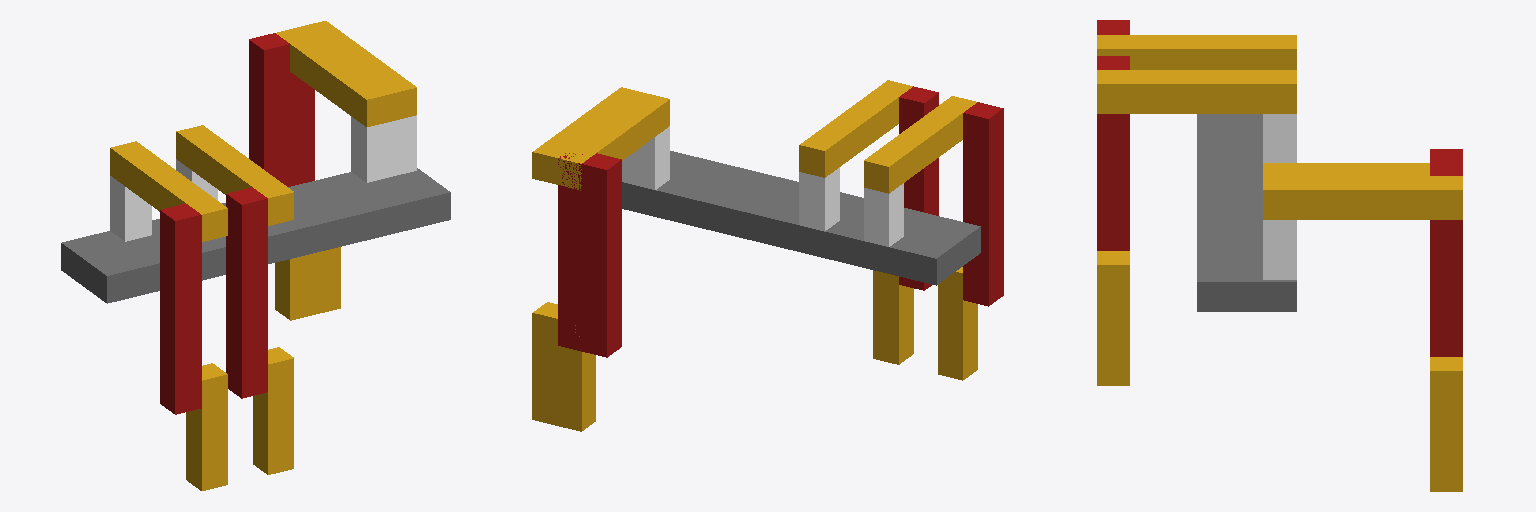
robot.urdf — v0:
<?xml version="1.0" encoding="utf-8"?>
<!-- =================================================================================== -->
<!-- |    This document was autogenerated by xacro from ../robots/v0variants/xacros/v0_4l_7.xacro | -->
<!-- |    EDITING THIS FILE BY HAND IS NOT RECOMMENDED                                 | -->
<!-- =================================================================================== -->
<robot name="v0">
  <material name="grey">
    <color rgba="0.5 0.5 0.5 1"/>
  </material>
  <material name="white">
    <color rgba="1 1 1 1"/>
  </material>
  <material name="yellow">
    <color rgba="0.91 0.7 0.14 1"/>
  </material>
  <material name="red">
    <color rgba="0.71 0.14 0.14 1"/>
  </material>
  <link name="body">
    <visual>
      <geometry>
        <box size="1.3 0.3 0.1"/>
      </geometry>
      <material name="grey"/>
      <origin rpy="0 0 0" xyz="0 0 0.7"/>
    </visual>
    <collision>
      <geometry>
        <box size="1.3 0.3 0.1"/>
      </geometry>
      <origin rpy="0 0 0" xyz="0 0 0.7"/>
    </collision>
    <inertial>
      <mass value="99.84"/>
      <inertia ixx="0.832" ixy="0.0" ixz="0.0" iyy="14.144" iyz="0.0" izz="14.8096"/>
    </inertial>
  </link>
  <link name="l1_segment_1">
    <visual>
      <geometry>
        <box size="0.1 0.1 0.2"/>
      </geometry>
      <material name="white"/>
      <origin rpy="0 0 0" xyz="0 0 0.1"/>
    </visual>
    <collision>
      <geometry>
        <box size="0.1 0.1 0.2"/>
      </geometry>
      <origin rpy="0 0 0" xyz="0 0 0.1"/>
    </collision>
    <inertial>
      <mass value="5.12"/>
      <inertia ixx="0.0213333333333" ixy="0.0" ixz="0.0" iyy="0.0213333333333" iyz="0.0" izz="0.00853333333333"/>
    </inertial>
  </link>
  <joint name="l1_base_to_joint_1" type="fixed">
    <parent link="body"/>
    <child link="l1_segment_1"/>
    <origin rpy="0 0 0" xyz="0.5894150948344697 0.1 0.75"/>
  </joint>
  <link name="l1_segment_2_HIP">
    <visual>
      <geometry>
        <box size="0.1 0.6 0.1"/>
      </geometry>
      <material name="yellow"/>
      <origin rpy="0 0 0" xyz="0 0.25 0"/>
    </visual>
    <collision>
      <geometry>
        <box size="0.1 0.6 0.1"/>
      </geometry>
      <origin rpy="0 0 0" xyz="0 0.25 0"/>
    </collision>
    <inertial>
      <mass value="15.36"/>
      <inertia ixx="0.4736" ixy="0.0" ixz="0.0" iyy="0.0256" iyz="0.0" izz="0.4736"/>
    </inertial>
  </link>
  <joint name="l1_joint_1_to_2" type="revolute">
    <parent link="l1_segment_1"/>
    <child link="l1_segment_2_HIP"/>
    <origin rpy="0 0 0" xyz="0 0 0.25"/>
    <axis xyz="0.0 0.0 1.0"/>
    <limit effort="2048" lower="-1.2" upper="1.2" velocity="20"/>
  </joint>
  <link name="l1_segment_3_THIGH">
    <visual>
      <geometry>
        <box size="0.1 0.1 0.7"/>
      </geometry>
      <material name="red"/>
      <origin rpy="0 0 0" xyz="0 0 -0.3"/>
    </visual>
    <collision>
      <geometry>
        <box size="0.1 0.1 0.7"/>
      </geometry>
      <origin rpy="0 0 0" xyz="0 0 -0.3"/>
    </collision>
    <inertial>
      <mass value="17.92"/>
      <inertia ixx="0.746666666667" ixy="0.0" ixz="0.0" iyy="0.746666666667" iyz="0.0" izz="0.0298666666667"/>
    </inertial>
  </link>
  <joint name="l1_joint_2_to_3" type="revolute">
    <parent link="l1_segment_2_HIP"/>
    <child link="l1_segment_3_THIGH"/>
    <origin rpy="0 0 0" xyz="-0.1 0.5 0"/>
    <axis xyz="1.0 0.0 0.0"/>
    <limit effort="2048" lower="-0.2" upper="0.75" velocity="20"/>
  </joint>
  <link name="l1_segment_4_FOOT">
    <visual>
      <geometry>
        <box size="0.1 0.1 0.4"/>
      </geometry>
      <material name="yellow"/>
      <origin rpy="0 0 0" xyz="0 0 -0.2"/>
    </visual>
    <collision>
      <geometry>
        <box size="0.1 0.1 0.4"/>
      </geometry>
      <origin rpy="0 0 0" xyz="0 0 -0.2"/>
    </collision>
    <inertial>
      <mass value="10.24"/>
      <inertia ixx="0.145066666667" ixy="0.0" ixz="0.0" iyy="0.145066666667" iyz="0.0" izz="0.0170666666667"/>
    </inertial>
  </link>
  <joint name="l1_joint_3_to_4_FOOT" type="revolute">
    <parent link="l1_segment_3_THIGH"/>
    <child link="l1_segment_4_FOOT"/>
    <origin rpy="0 0 0" xyz="0.1 0 -0.55"/>
    <axis xyz="1.0 0.0 0.0"/>
    <limit effort="2048" lower="-0.2" upper="0.5" velocity="20"/>
  </joint>
  <link name="r2_segment_1">
    <visual>
      <geometry>
        <box size="0.1 0.1 0.2"/>
      </geometry>
      <material name="white"/>
      <origin rpy="0 0 0" xyz="0 0 0.1"/>
    </visual>
    <collision>
      <geometry>
        <box size="0.1 0.1 0.2"/>
      </geometry>
      <origin rpy="0 0 0" xyz="0 0 0.1"/>
    </collision>
    <inertial>
      <mass value="5.12"/>
      <inertia ixx="0.0213333333333" ixy="0.0" ixz="0.0" iyy="0.0213333333333" iyz="0.0" izz="0.00853333333333"/>
    </inertial>
  </link>
  <joint name="r2_base_to_joint_1" type="fixed">
    <parent link="body"/>
    <child link="r2_segment_1"/>
    <origin rpy="0 0 0" xyz="-0.1642863958616771 0.1 0.75"/>
  </joint>
  <link name="r2_segment_2_HIP">
    <visual>
      <geometry>
        <box size="0.1 0.6 0.1"/>
      </geometry>
      <material name="yellow"/>
      <origin rpy="0 0 0" xyz="0 -0.25 0"/>
    </visual>
    <collision>
      <geometry>
        <box size="0.1 0.6 0.1"/>
      </geometry>
      <origin rpy="0 0 0" xyz="0 -0.25 0"/>
    </collision>
    <inertial>
      <mass value="15.36"/>
      <inertia ixx="0.4736" ixy="0.0" ixz="0.0" iyy="0.0256" iyz="0.0" izz="0.4736"/>
    </inertial>
  </link>
  <joint name="r2_joint_1_to_2" type="revolute">
    <parent link="r2_segment_1"/>
    <child link="r2_segment_2_HIP"/>
    <origin rpy="0 0 0" xyz="0 0 0.25"/>
    <axis xyz="0.0 0.0 1.0"/>
    <limit effort="2048" lower="-1.2" upper="1.2" velocity="20"/>
  </joint>
  <link name="r2_segment_3_THIGH">
    <visual>
      <geometry>
        <box size="0.1 0.1 0.7"/>
      </geometry>
      <material name="red"/>
      <origin rpy="0 0 0" xyz="0 0 -0.3"/>
    </visual>
    <collision>
      <geometry>
        <box size="0.1 0.1 0.7"/>
      </geometry>
      <origin rpy="0 0 0" xyz="0 0 -0.3"/>
    </collision>
    <inertial>
      <mass value="17.92"/>
      <inertia ixx="0.746666666667" ixy="0.0" ixz="0.0" iyy="0.746666666667" iyz="0.0" izz="0.0298666666667"/>
    </inertial>
  </link>
  <joint name="r2_joint_2_to_3" type="revolute">
    <parent link="r2_segment_2_HIP"/>
    <child link="r2_segment_3_THIGH"/>
    <origin rpy="0 0 0" xyz="-0.1 -0.5 0"/>
    <axis xyz="1.0 0.0 0.0"/>
    <limit effort="2048" lower="-0.75" upper="0.2" velocity="20"/>
  </joint>
  <link name="r2_segment_4_FOOT">
    <visual>
      <geometry>
        <box size="0.1 0.1 0.4"/>
      </geometry>
      <material name="yellow"/>
      <origin rpy="0 0 0" xyz="0 0 -0.2"/>
    </visual>
    <collision>
      <geometry>
        <box size="0.1 0.1 0.4"/>
      </geometry>
      <origin rpy="0 0 0" xyz="0 0 -0.2"/>
    </collision>
    <inertial>
      <mass value="10.24"/>
      <inertia ixx="0.145066666667" ixy="0.0" ixz="0.0" iyy="0.145066666667" iyz="0.0" izz="0.0170666666667"/>
    </inertial>
  </link>
  <joint name="r2_joint_3_to_4_FOOT" type="revolute">
    <parent link="r2_segment_3_THIGH"/>
    <child link="r2_segment_4_FOOT"/>
    <origin rpy="0 0 0" xyz="0.1 0 -0.55"/>
    <axis xyz="1.0 0.0 0.0"/>
    <limit effort="2048" lower="-0.5" upper="0.2" velocity="20"/>
  </joint>
  <link name="l3_segment_1">
    <visual>
      <geometry>
        <box size="0.1 0.1 0.2"/>
      </geometry>
      <material name="white"/>
      <origin rpy="0 0 0" xyz="0 0 0.1"/>
    </visual>
    <collision>
      <geometry>
        <box size="0.1 0.1 0.2"/>
      </geometry>
      <origin rpy="0 0 0" xyz="0 0 0.1"/>
    </collision>
    <inertial>
      <mass value="5.12"/>
      <inertia ixx="0.0213333333333" ixy="0.0" ixz="0.0" iyy="0.0213333333333" iyz="0.0" izz="0.00853333333333"/>
    </inertial>
  </link>
  <joint name="l3_base_to_joint_1" type="fixed">
    <parent link="body"/>
    <child link="l3_segment_1"/>
    <origin rpy="0 0 0" xyz="0.4976429923334712 0.1 0.75"/>
  </joint>
  <link name="l3_segment_2_HIP">
    <visual>
      <geometry>
        <box size="0.1 0.6 0.1"/>
      </geometry>
      <material name="yellow"/>
      <origin rpy="0 0 0" xyz="0 0.25 0"/>
    </visual>
    <collision>
      <geometry>
        <box size="0.1 0.6 0.1"/>
      </geometry>
      <origin rpy="0 0 0" xyz="0 0.25 0"/>
    </collision>
    <inertial>
      <mass value="15.36"/>
      <inertia ixx="0.4736" ixy="0.0" ixz="0.0" iyy="0.0256" iyz="0.0" izz="0.4736"/>
    </inertial>
  </link>
  <joint name="l3_joint_1_to_2" type="revolute">
    <parent link="l3_segment_1"/>
    <child link="l3_segment_2_HIP"/>
    <origin rpy="0 0 0" xyz="0 0 0.25"/>
    <axis xyz="0.0 0.0 1.0"/>
    <limit effort="2048" lower="-1.2" upper="1.2" velocity="20"/>
  </joint>
  <link name="l3_segment_3_THIGH">
    <visual>
      <geometry>
        <box size="0.1 0.1 0.7"/>
      </geometry>
      <material name="red"/>
      <origin rpy="0 0 0" xyz="0 0 -0.3"/>
    </visual>
    <collision>
      <geometry>
        <box size="0.1 0.1 0.7"/>
      </geometry>
      <origin rpy="0 0 0" xyz="0 0 -0.3"/>
    </collision>
    <inertial>
      <mass value="17.92"/>
      <inertia ixx="0.746666666667" ixy="0.0" ixz="0.0" iyy="0.746666666667" iyz="0.0" izz="0.0298666666667"/>
    </inertial>
  </link>
  <joint name="l3_joint_2_to_3" type="revolute">
    <parent link="l3_segment_2_HIP"/>
    <child link="l3_segment_3_THIGH"/>
    <origin rpy="0 0 0" xyz="-0.1 0.5 0"/>
    <axis xyz="1.0 0.0 0.0"/>
    <limit effort="2048" lower="-0.2" upper="0.75" velocity="20"/>
  </joint>
  <link name="l3_segment_4_FOOT">
    <visual>
      <geometry>
        <box size="0.1 0.1 0.4"/>
      </geometry>
      <material name="yellow"/>
      <origin rpy="0 0 0" xyz="0 0 -0.2"/>
    </visual>
    <collision>
      <geometry>
        <box size="0.1 0.1 0.4"/>
      </geometry>
      <origin rpy="0 0 0" xyz="0 0 -0.2"/>
    </collision>
    <inertial>
      <mass value="10.24"/>
      <inertia ixx="0.145066666667" ixy="0.0" ixz="0.0" iyy="0.145066666667" iyz="0.0" izz="0.0170666666667"/>
    </inertial>
  </link>
  <joint name="l3_joint_3_to_4_FOOT" type="revolute">
    <parent link="l3_segment_3_THIGH"/>
    <child link="l3_segment_4_FOOT"/>
    <origin rpy="0 0 0" xyz="0.1 0 -0.55"/>
    <axis xyz="1.0 0.0 0.0"/>
    <limit effort="2048" lower="-0.2" upper="0.5" velocity="20"/>
  </joint>
  <link name="r4_segment_1">
    <visual>
      <geometry>
        <box size="0.1 0.1 0.2"/>
      </geometry>
      <material name="white"/>
      <origin rpy="0 0 0" xyz="0 0 0.1"/>
    </visual>
    <collision>
      <geometry>
        <box size="0.1 0.1 0.2"/>
      </geometry>
      <origin rpy="0 0 0" xyz="0 0 0.1"/>
    </collision>
    <inertial>
      <mass value="5.12"/>
      <inertia ixx="0.0213333333333" ixy="0.0" ixz="0.0" iyy="0.0213333333333" iyz="0.0" izz="0.00853333333333"/>
    </inertial>
  </link>
  <joint name="r4_base_to_joint_1" type="fixed">
    <parent link="body"/>
    <child link="r4_segment_1"/>
    <origin rpy="0 0 0" xyz="-0.4153076893695845 0.1 0.75"/>
  </joint>
  <link name="r4_segment_2_HIP">
    <visual>
      <geometry>
        <box size="0.1 0.6 0.1"/>
      </geometry>
      <material name="yellow"/>
      <origin rpy="0 0 0" xyz="0 -0.25 0"/>
    </visual>
    <collision>
      <geometry>
        <box size="0.1 0.6 0.1"/>
      </geometry>
      <origin rpy="0 0 0" xyz="0 -0.25 0"/>
    </collision>
    <inertial>
      <mass value="15.36"/>
      <inertia ixx="0.4736" ixy="0.0" ixz="0.0" iyy="0.0256" iyz="0.0" izz="0.4736"/>
    </inertial>
  </link>
  <joint name="r4_joint_1_to_2" type="revolute">
    <parent link="r4_segment_1"/>
    <child link="r4_segment_2_HIP"/>
    <origin rpy="0 0 0" xyz="0 0 0.25"/>
    <axis xyz="0.0 0.0 1.0"/>
    <limit effort="2048" lower="-1.2" upper="1.2" velocity="20"/>
  </joint>
  <link name="r4_segment_3_THIGH">
    <visual>
      <geometry>
        <box size="0.1 0.1 0.7"/>
      </geometry>
      <material name="red"/>
      <origin rpy="0 0 0" xyz="0 0 -0.3"/>
    </visual>
    <collision>
      <geometry>
        <box size="0.1 0.1 0.7"/>
      </geometry>
      <origin rpy="0 0 0" xyz="0 0 -0.3"/>
    </collision>
    <inertial>
      <mass value="17.92"/>
      <inertia ixx="0.746666666667" ixy="0.0" ixz="0.0" iyy="0.746666666667" iyz="0.0" izz="0.0298666666667"/>
    </inertial>
  </link>
  <joint name="r4_joint_2_to_3" type="revolute">
    <parent link="r4_segment_2_HIP"/>
    <child link="r4_segment_3_THIGH"/>
    <origin rpy="0 0 0" xyz="-0.1 -0.5 0"/>
    <axis xyz="1.0 0.0 0.0"/>
    <limit effort="2048" lower="-0.75" upper="0.2" velocity="20"/>
  </joint>
  <link name="r4_segment_4_FOOT">
    <visual>
      <geometry>
        <box size="0.1 0.1 0.4"/>
      </geometry>
      <material name="yellow"/>
      <origin rpy="0 0 0" xyz="0 0 -0.2"/>
    </visual>
    <collision>
      <geometry>
        <box size="0.1 0.1 0.4"/>
      </geometry>
      <origin rpy="0 0 0" xyz="0 0 -0.2"/>
    </collision>
    <inertial>
      <mass value="10.24"/>
      <inertia ixx="0.145066666667" ixy="0.0" ixz="0.0" iyy="0.145066666667" iyz="0.0" izz="0.0170666666667"/>
    </inertial>
  </link>
  <joint name="r4_joint_3_to_4_FOOT" type="revolute">
    <parent link="r4_segment_3_THIGH"/>
    <child link="r4_segment_4_FOOT"/>
    <origin rpy="0 0 0" xyz="0.1 0 -0.55"/>
    <axis xyz="1.0 0.0 0.0"/>
    <limit effort="2048" lower="-0.5" upper="0.2" velocity="20"/>
  </joint>
</robot>

--- What the picture shows (computed from the rendered views, not written in the file) ---
The picture shows the robot from 3 angles, left to right: view 1: azimuth 30°, elevation 25°; view 2: azimuth 150°, elevation 25°; view 3: azimuth 270°, elevation 25°; orthographic projection.
Robot: v0 — 17 links, 16 joints (12 revolute, 4 fixed); root link body; default pose: every joint at zero.
Visible links, largest first — view 1: body, r4_segment_3_THIGH, r2_segment_3_THIGH, l3_segment_3_THIGH, l3_segment_2_HIP, r2_segment_2_HIP, r4_segment_2_HIP, r4_segment_4_FOOT, r2_segment_4_FOOT, l1_segment_2_HIP, l1_segment_3_THIGH, l3_segment_4_FOOT (+4 smaller); view 2: body, l3_segment_3_THIGH, r4_segment_3_THIGH, r2_segment_2_HIP, r4_segment_2_HIP, l1_segment_3_THIGH, l3_segment_2_HIP, r4_segment_4_FOOT, r2_segment_4_FOOT, l1_segment_4_FOOT, l3_segment_4_FOOT, r2_segment_3_THIGH (+4 smaller); view 3: body, l1_segment_2_HIP, r2_segment_2_HIP, r4_segment_2_HIP, l1_segment_3_THIGH, r2_segment_3_THIGH, l1_segment_4_FOOT, r2_segment_4_FOOT, l3_segment_2_HIP, l1_segment_1, r2_segment_1.
Link boxes in pixels (x1,y1,x2,y2): body: (61, 168, 450, 303); r4_segment_3_THIGH: (160, 204, 201, 414); r2_segment_3_THIGH: (226, 187, 267, 398); l3_segment_3_THIGH: (249, 33, 289, 186); l3_segment_2_HIP: (276, 26, 392, 126); r2_segment_2_HIP: (176, 125, 293, 225); r4_segment_2_HIP: (110, 141, 227, 241); r4_segment_4_FOOT: (186, 363, 227, 490); r2_segment_4_FOOT: (253, 347, 293, 474); l1_segment_2_HIP: (302, 21, 416, 121); l1_segment_3_THIGH: (274, 33, 314, 186); l3_segment_4_FOOT: (275, 253, 316, 320); body: (622, 151, 980, 285); l3_segment_3_THIGH: (582, 153, 621, 357); r4_segment_3_THIGH: (963, 102, 1003, 306); r2_segment_2_HIP: (799, 80, 912, 177); r4_segment_2_HIP: (864, 96, 976, 193); l1_segment_3_THIGH: (558, 153, 583, 351); l3_segment_2_HIP: (556, 93, 669, 190); r4_segment_4_FOOT: (938, 267, 977, 380); r2_segment_4_FOOT: (873, 270, 913, 364); l1_segment_4_FOOT: (532, 302, 557, 425); l3_segment_4_FOOT: (556, 317, 595, 431); r2_segment_3_THIGH: (899, 86, 938, 290); body: (1197, 114, 1296, 311); l1_segment_2_HIP: (1263, 176, 1462, 219); r2_segment_2_HIP: (1097, 70, 1296, 113); r4_segment_2_HIP: (1097, 35, 1296, 69); l1_segment_3_THIGH: (1430, 162, 1462, 356); r2_segment_3_THIGH: (1097, 56, 1129, 250); l1_segment_4_FOOT: (1430, 357, 1462, 491); r2_segment_4_FOOT: (1097, 251, 1129, 385); l3_segment_2_HIP: (1263, 163, 1429, 175); l1_segment_1: (1263, 220, 1296, 279); r2_segment_1: (1263, 114, 1296, 162).
Bounding box of the posed robot: 1.3 × 1.1 × 1 m (x, y, z).
Geometry: primitives only (box / cylinder / sphere), no mesh files.